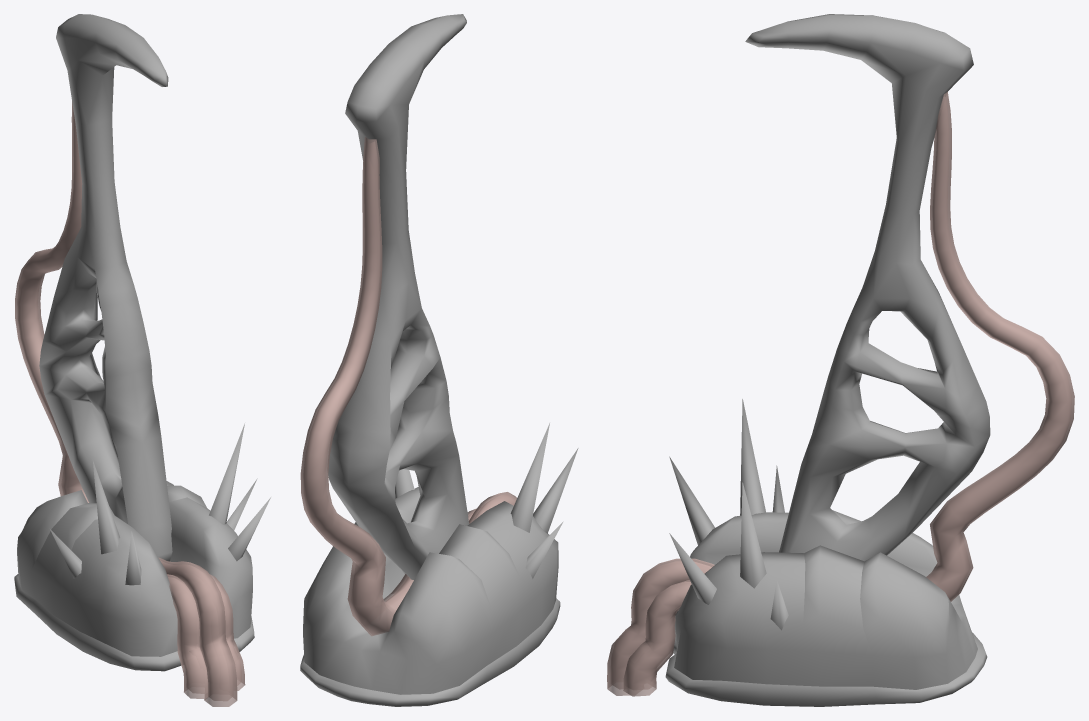
File: lever_glow.fbx
The picture shows the model from 3 angles, left to right: view 1: azimuth 30°, elevation 25°; view 2: azimuth 150°, elevation 25°; view 3: azimuth 270°, elevation 25°; orthographic projection. The views are drawn at different scales.
Visible parts, largest first — view 1: lever, lever_base_portal, cord5; view 2: lever_base_portal, lever, cord5; view 3: lever_base_portal, lever, cord5.
Part boxes in pixels (<box>): lever: <box>39,14,172,561</box>; lever_base_portal: <box>14,423,270,706</box>; cord5: <box>15,101,88,502</box>; lever_base_portal: <box>300,423,578,706</box>; lever: <box>328,14,469,579</box>; cord5: <box>300,137,413,636</box>; lever_base_portal: <box>607,399,987,706</box>; lever: <box>745,14,990,561</box>; cord5: <box>926,91,1074,601</box>.
Bounding box in the file's own units: 8.38 × 23.02 × 14.48.
